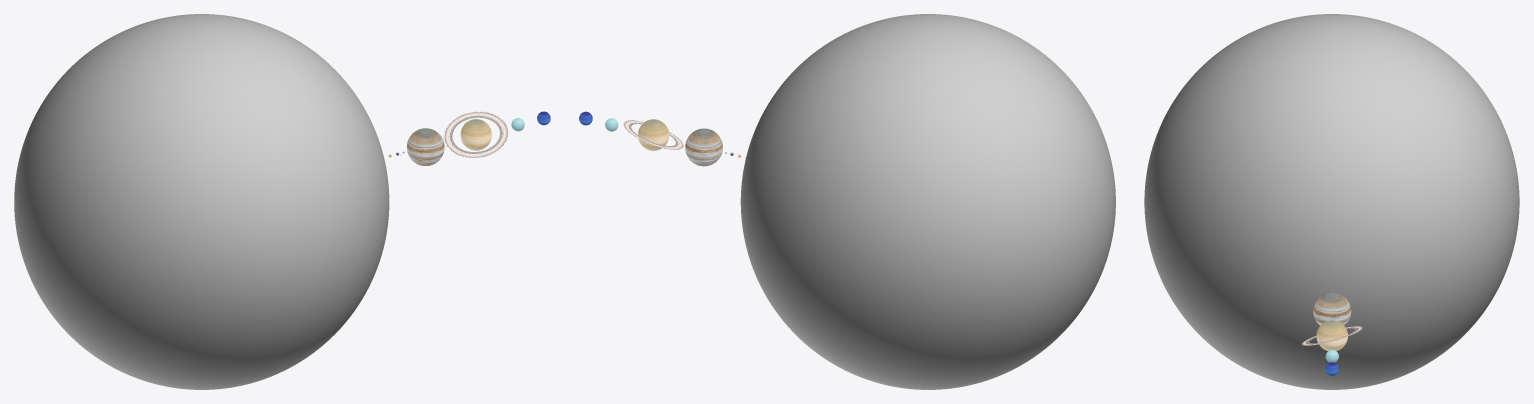
The picture shows the model from 3 angles, left to right: view 1: azimuth 30°, elevation 25°; view 2: azimuth 150°, elevation 25°; view 3: azimuth 270°, elevation 25°; orthographic projection.
Parts seen in each view (by area): view 1: Sun, Jupiter, SaturnCircles, Saturn; view 2: Sun, Jupiter, Saturn; view 3: Sun, Jupiter, Saturn.
Part boxes in pixels (x1=…): Sun: x1=14, y1=14, x2=389, y2=389; Jupiter: x1=406, y1=128, x2=444, y2=165; SaturnCircles: x1=444, y1=111, x2=507, y2=157; Saturn: x1=460, y1=119, x2=491, y2=150; Sun: x1=740, y1=14, x2=1115, y2=389; Jupiter: x1=685, y1=128, x2=722, y2=166; Saturn: x1=638, y1=119, x2=669, y2=150; Sun: x1=1144, y1=14, x2=1519, y2=389; Jupiter: x1=1313, y1=292, x2=1351, y2=325; Saturn: x1=1316, y1=320, x2=1347, y2=350.
Bounding box in the file's own units: 2177 × 1392 × 1385.
